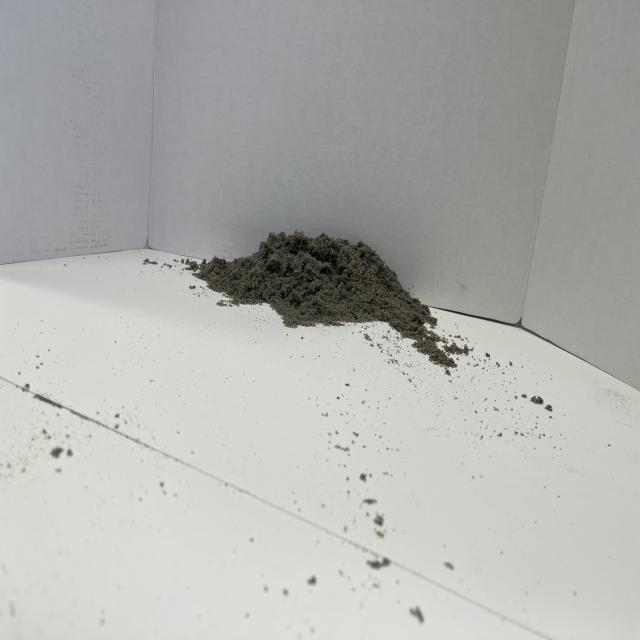sand: (187, 219, 443, 344)
